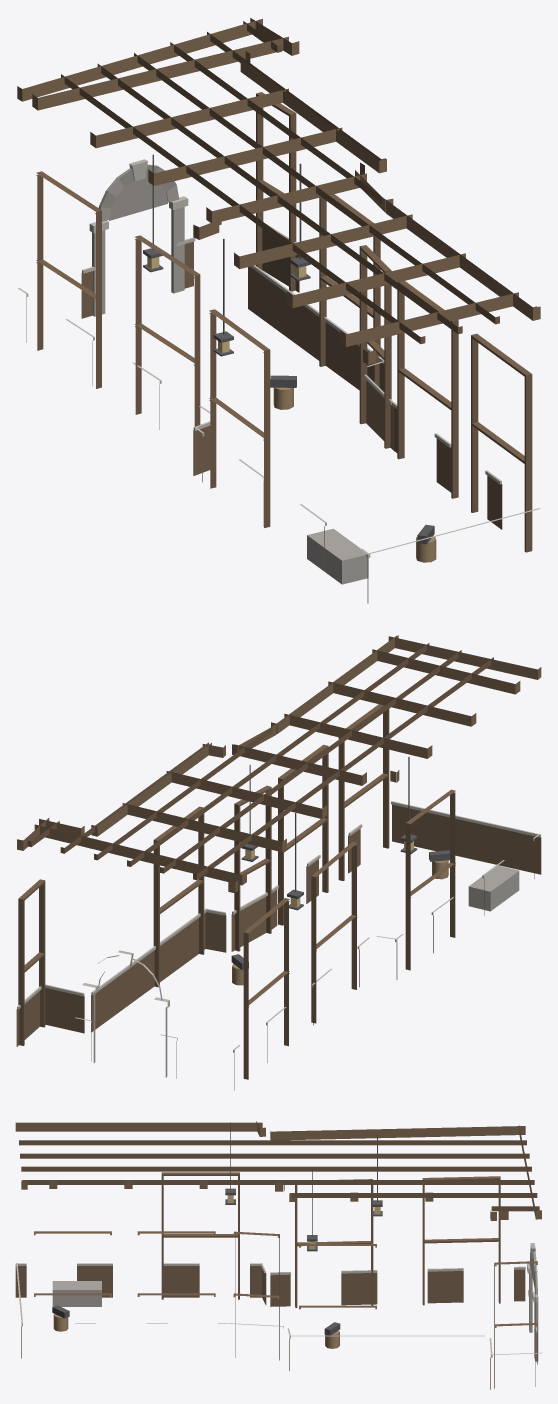
File: interior_b007.glb
The picture shows the model from 3 angles, top to bottom: view 1: azimuth 30°, elevation 25°; view 2: azimuth 150°, elevation 25°; view 3: azimuth 270°, elevation 25°; orthographic projection. The views are drawn at different scales.
Parts seen in each view (by area): view 1: Interior_B007_mesh; view 2: Interior_B007_mesh; view 3: Interior_B007_mesh.
Part boxes in pixels (x1=…): Interior_B007_mesh: x1=17, y1=18, x2=540, y2=603; Interior_B007_mesh: x1=16, y1=635, x2=541, y2=1090; Interior_B007_mesh: x1=15, y1=1121, x2=541, y2=1389.
Bounding box in the file's own units: 7.16 × 6.35 × 17.11.
